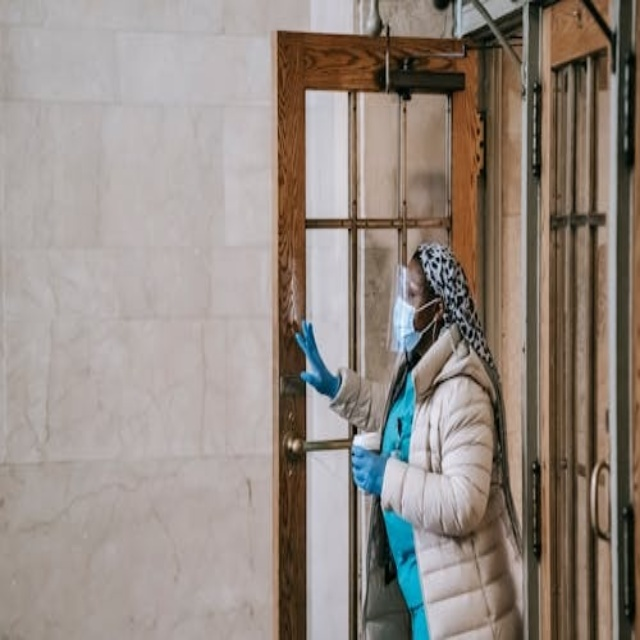Guantes: (296, 320, 339, 398), (350, 444, 389, 496)
Mascara: (391, 291, 429, 352)
